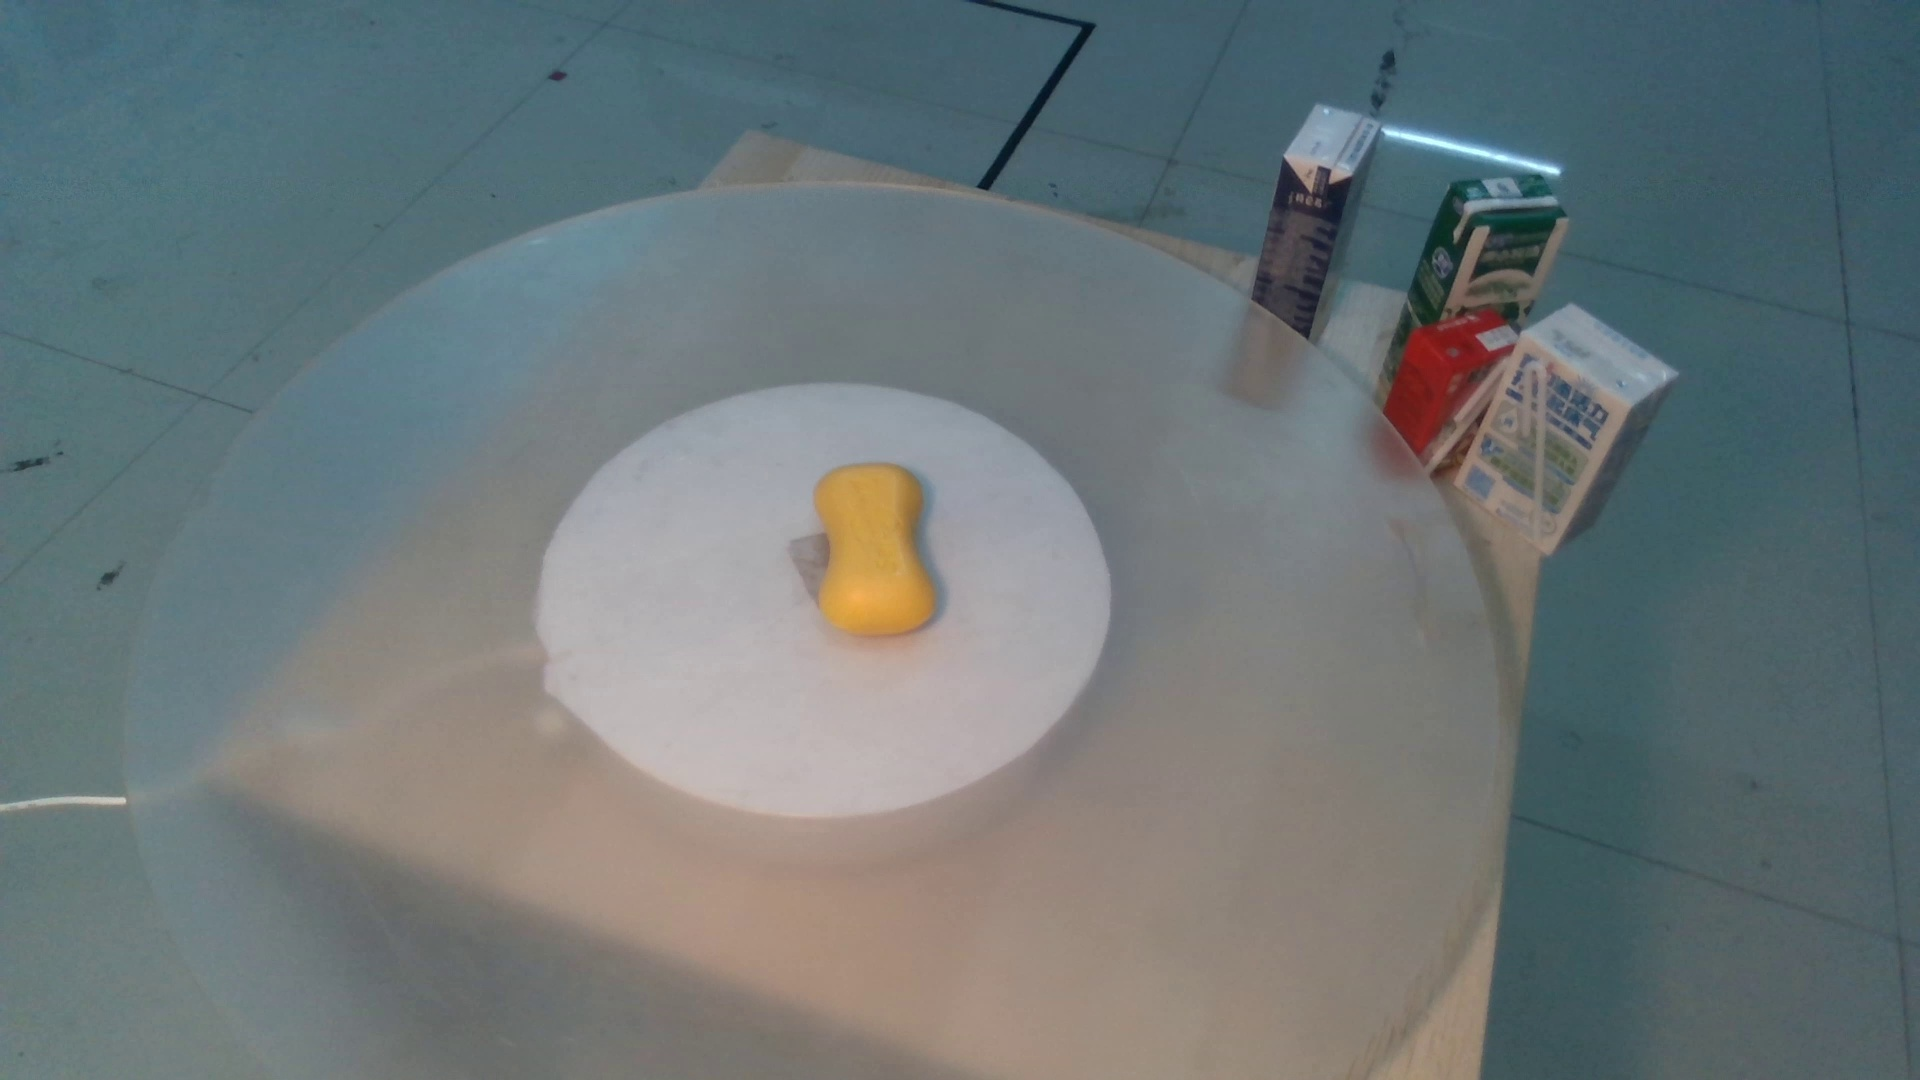CA003_1: (795, 444, 951, 659)
